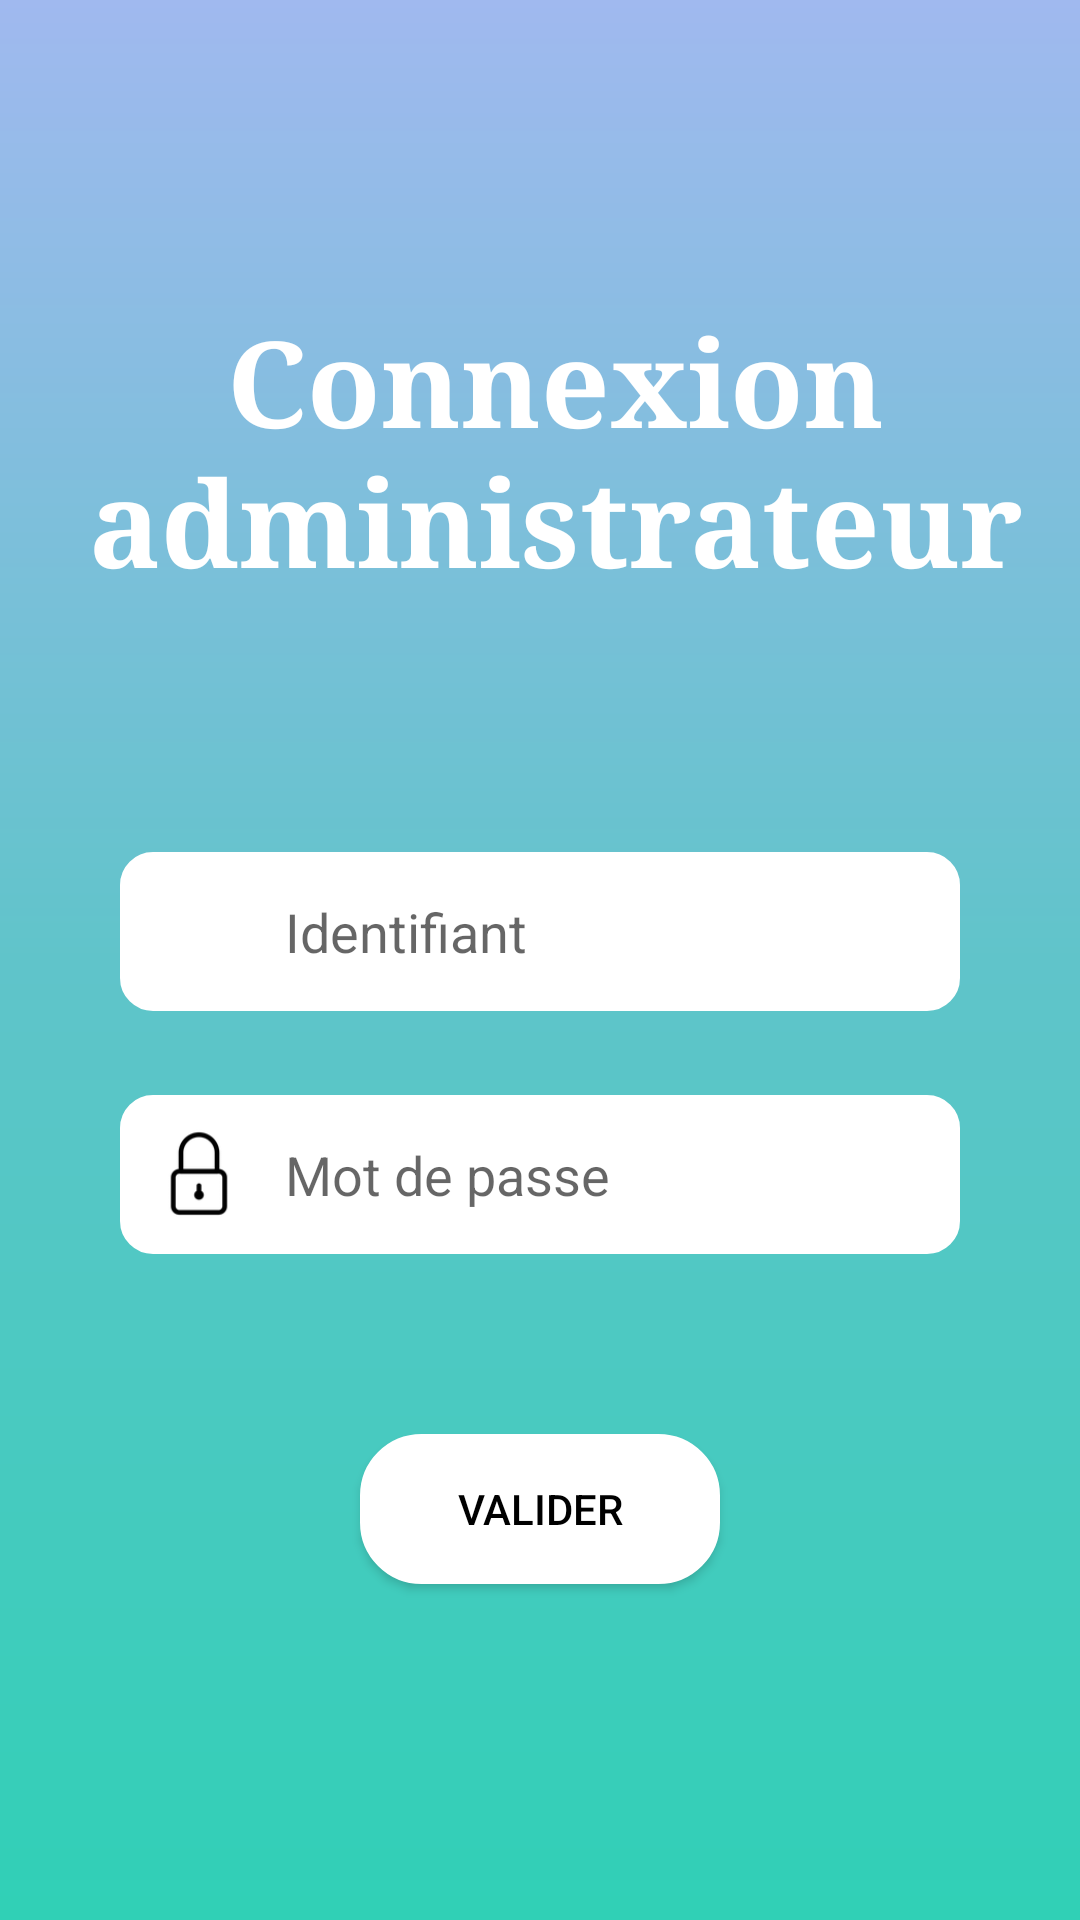

Icons on this 1080px x 1920px Android screen, each with its box as (x1, y1, x2, y2):
iconemdp: (170, 1132, 228, 1215)
